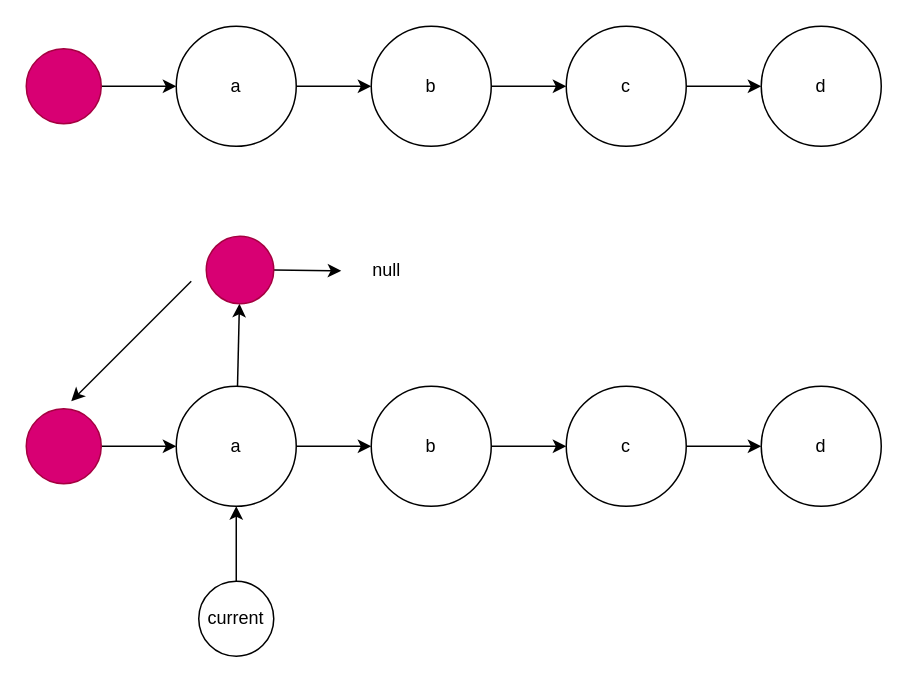
Image size: 908x683. Some labels were removed from this diagram. The centre of each missing label's shape, as x and y in pixels:
"head" goes at (63,445).
"newHead" goes at (239,269).
